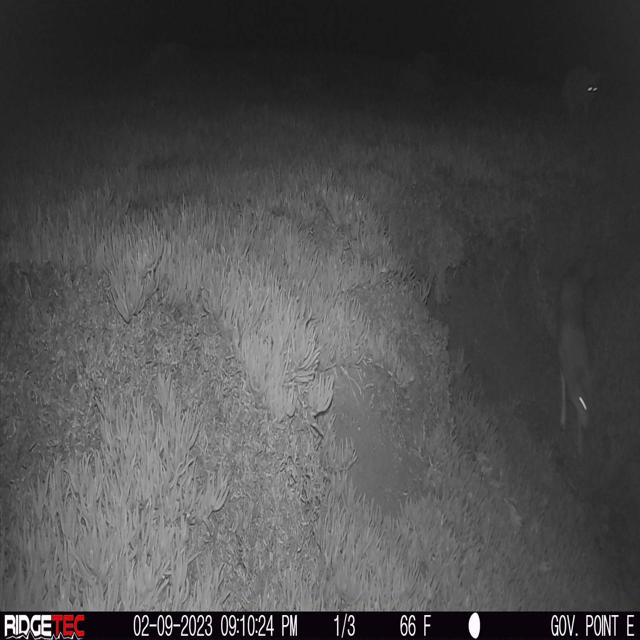coyote: (560, 63, 603, 124)
